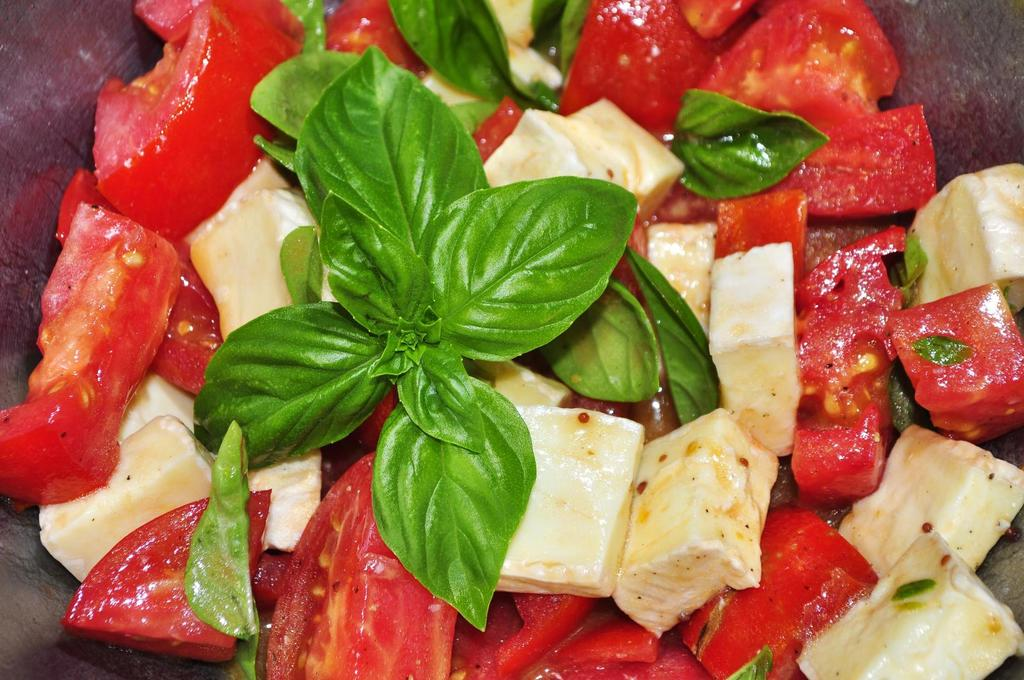Tomato: (0, 0, 1024, 680)
